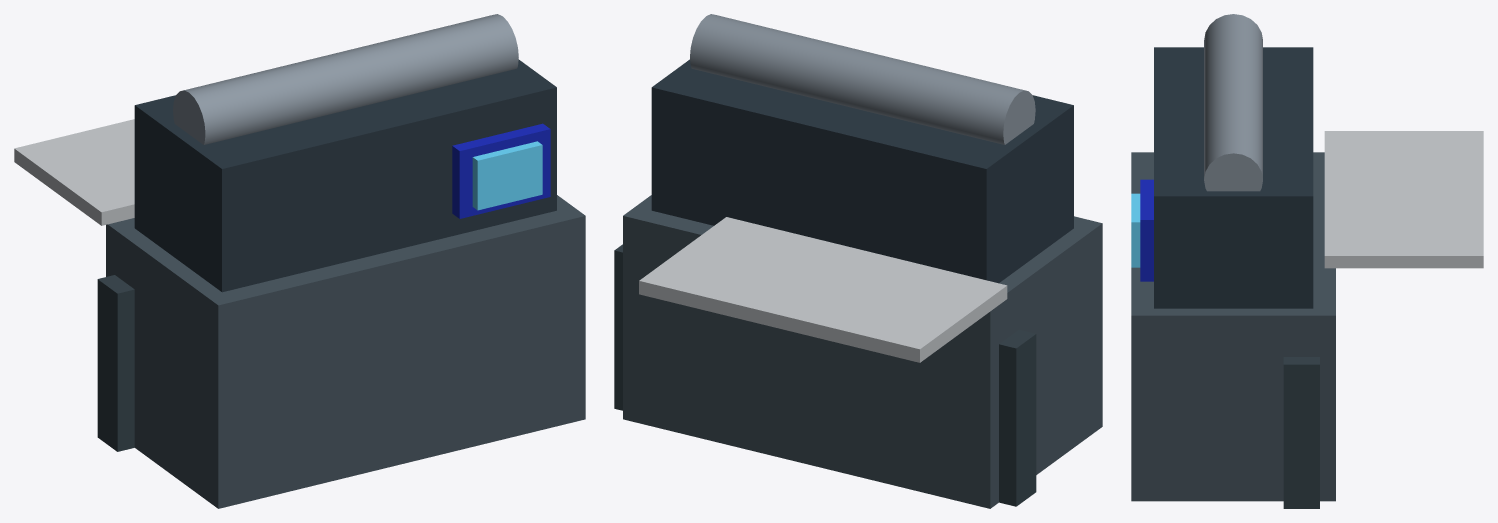
The model's file is machine.glb.
3 views of the same model, side by side, from view 1: azimuth 30°, elevation 25°; view 2: azimuth 150°, elevation 25°; view 3: azimuth 270°, elevation 25° (orthographic). The views are drawn at different scales.
Size of the model in its own units: 1.86 by 1.63 by 1.55.
